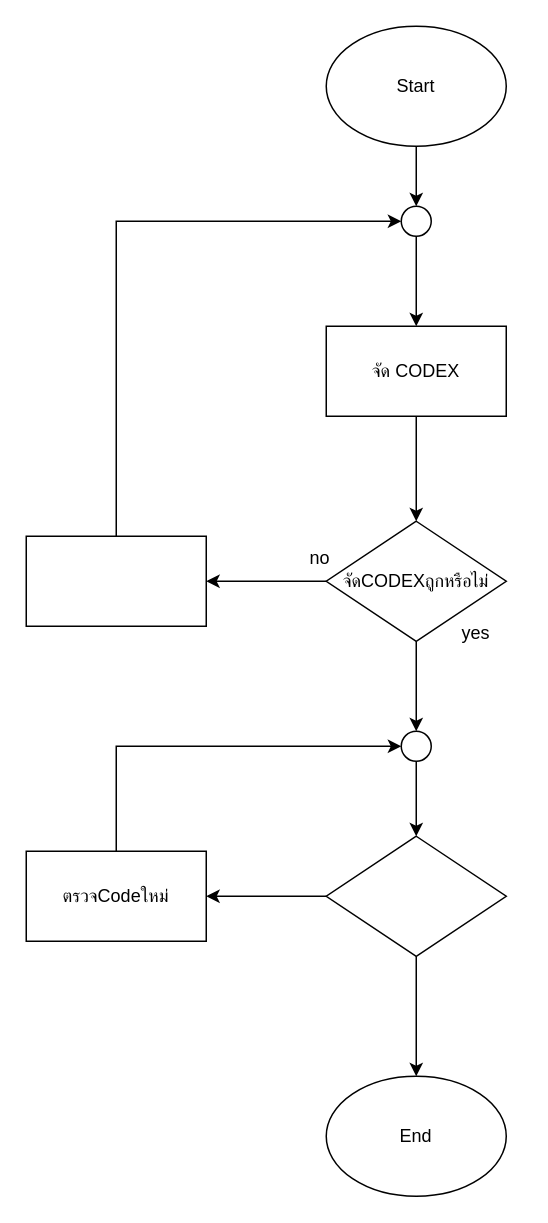
Image size: 548x1223. Some labels were removed from this diagram. The shapes that lost their labels are listed below. From the top down, each one's centre as x and y in pixels, then its label:
At [115,580]: "ตรวจCodexใหม่".
At [415,895]: "จัดcodeถูกต้องไหม".
